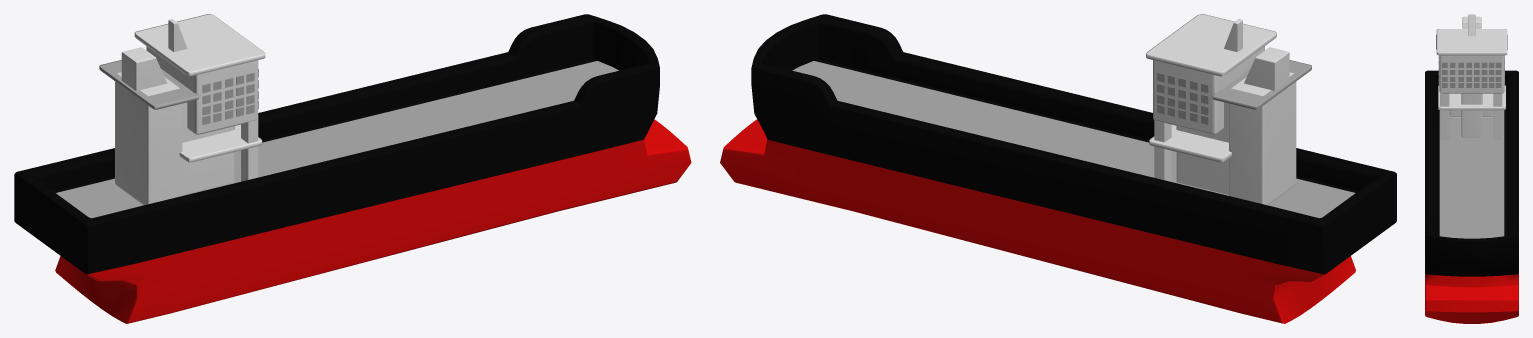
File: Ship_6.fbx
3 views of the same model, side by side, from view 1: azimuth 30°, elevation 25°; view 2: azimuth 150°, elevation 25°; view 3: azimuth 270°, elevation 25° (orthographic). The views are drawn at different scales.
Visible parts, largest first — view 1: Ship_6; view 2: Ship_6; view 3: Ship_6.
Part boxes in pixels (x1=…): Ship_6: x1=14, y1=14, x2=691, y2=323; Ship_6: x1=720, y1=14, x2=1396, y2=323; Ship_6: x1=1425, y1=14, x2=1518, y2=323.
Bounding box in the file's own units: 7.87 × 3.3 × 1.66.
